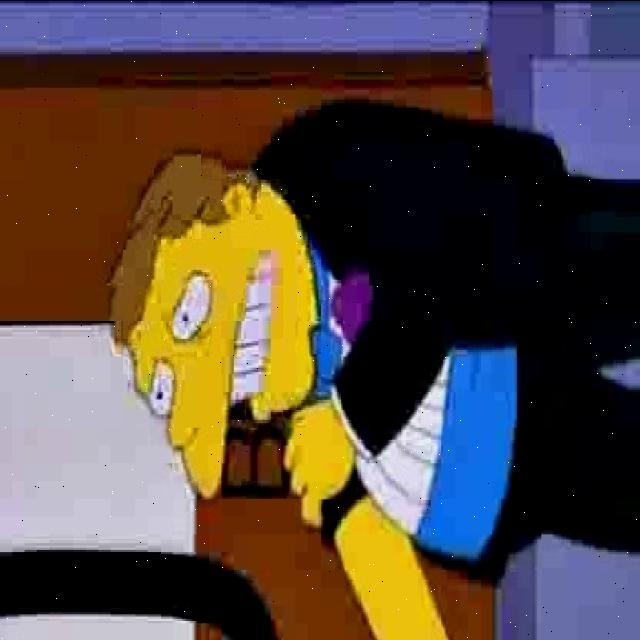Barney Gumble: (105, 138, 317, 507)
